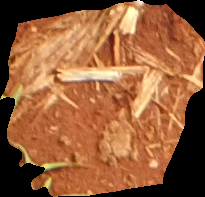soil: (1, 1, 204, 197)
